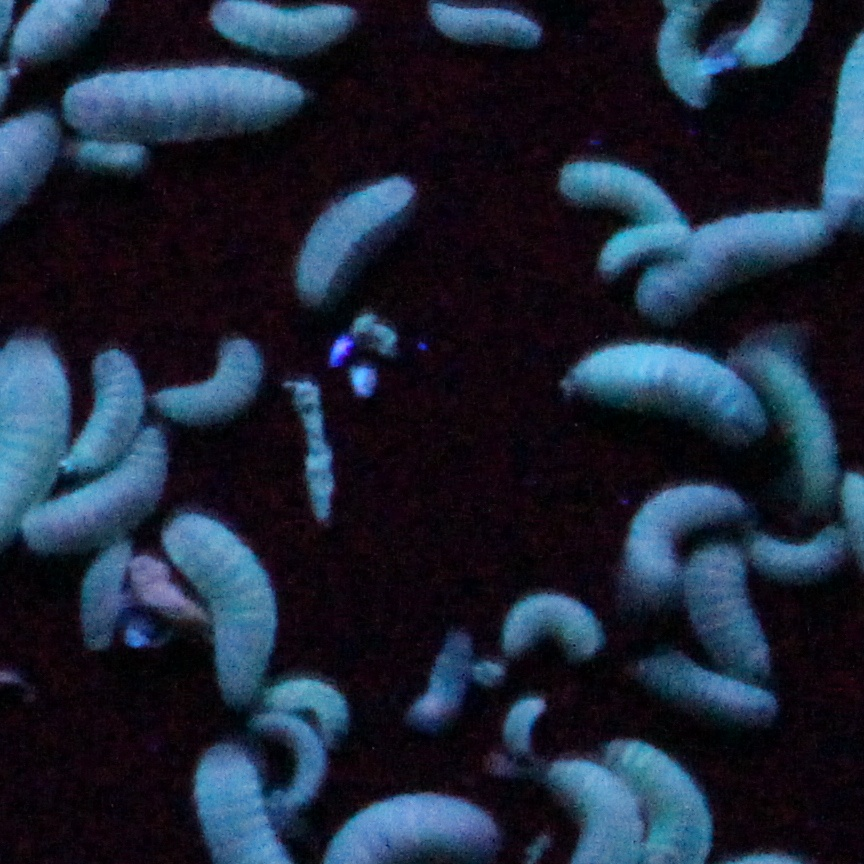larve: (643, 218, 839, 322), (165, 508, 266, 694), (69, 63, 308, 136), (29, 426, 173, 547), (300, 177, 414, 302), (742, 350, 839, 494), (580, 344, 758, 416), (627, 491, 750, 590), (543, 161, 681, 232), (688, 553, 765, 672), (637, 657, 773, 722), (158, 337, 265, 417), (68, 357, 140, 473), (252, 703, 324, 808), (507, 594, 601, 667), (653, 2, 714, 112), (737, 524, 847, 578), (262, 676, 348, 739), (596, 228, 688, 279), (81, 547, 125, 645)
